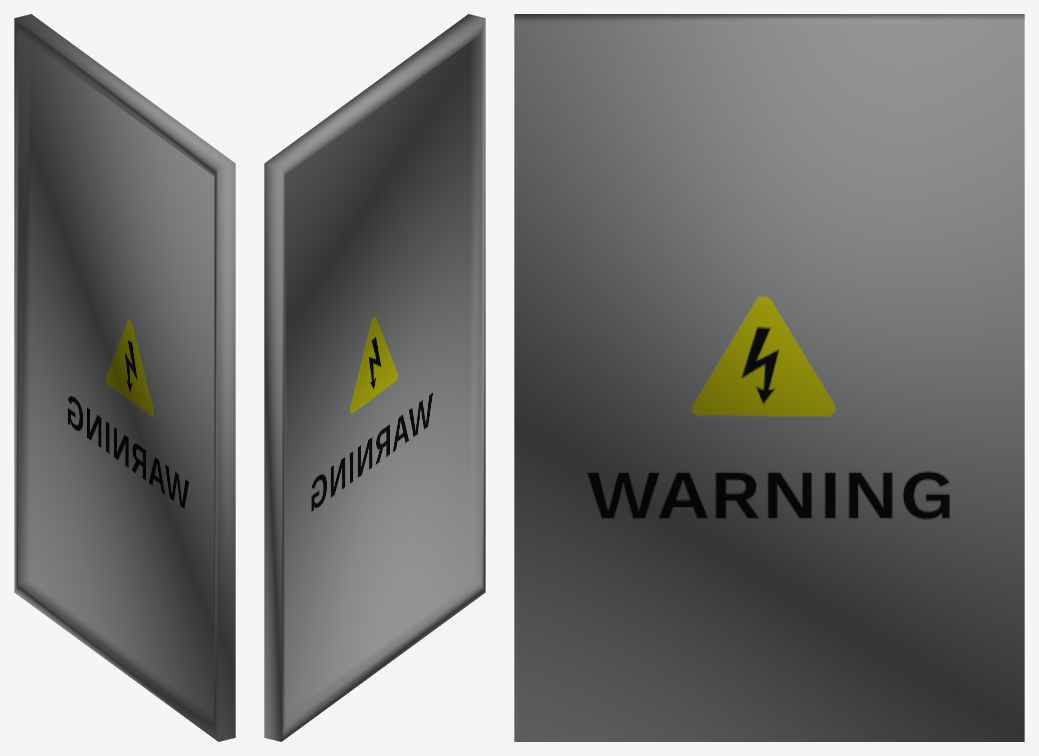
File: porta_caixaEletrica_TEXTURIZADA.fbx
3 renders of one model, left to right at view 1: azimuth 30°, elevation 25°; view 2: azimuth 150°, elevation 25°; view 3: azimuth 270°, elevation 25°, orthographic. The views are drawn at different scales.
Parts seen in each view (by area): view 1: porta caixa eletrica; view 2: porta caixa eletrica; view 3: porta caixa eletrica.
Boxes of the visible parts, x1=… form: porta caixa eletrica: x1=14, y1=14, x2=235, y2=741; porta caixa eletrica: x1=264, y1=14, x2=485, y2=741; porta caixa eletrica: x1=514, y1=14, x2=1024, y2=741.
Bounding box in the file's own units: 2.1 × 67.2 × 43.3.
Materials: 1 (1 with a texture image).
